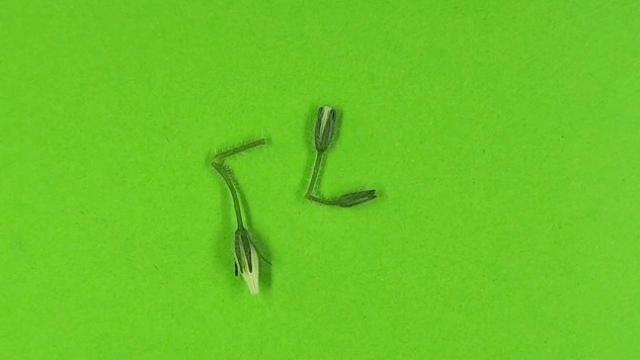Flower Bud: (234, 223, 261, 295), (311, 106, 342, 156), (336, 187, 379, 209), (330, 189, 378, 207)
